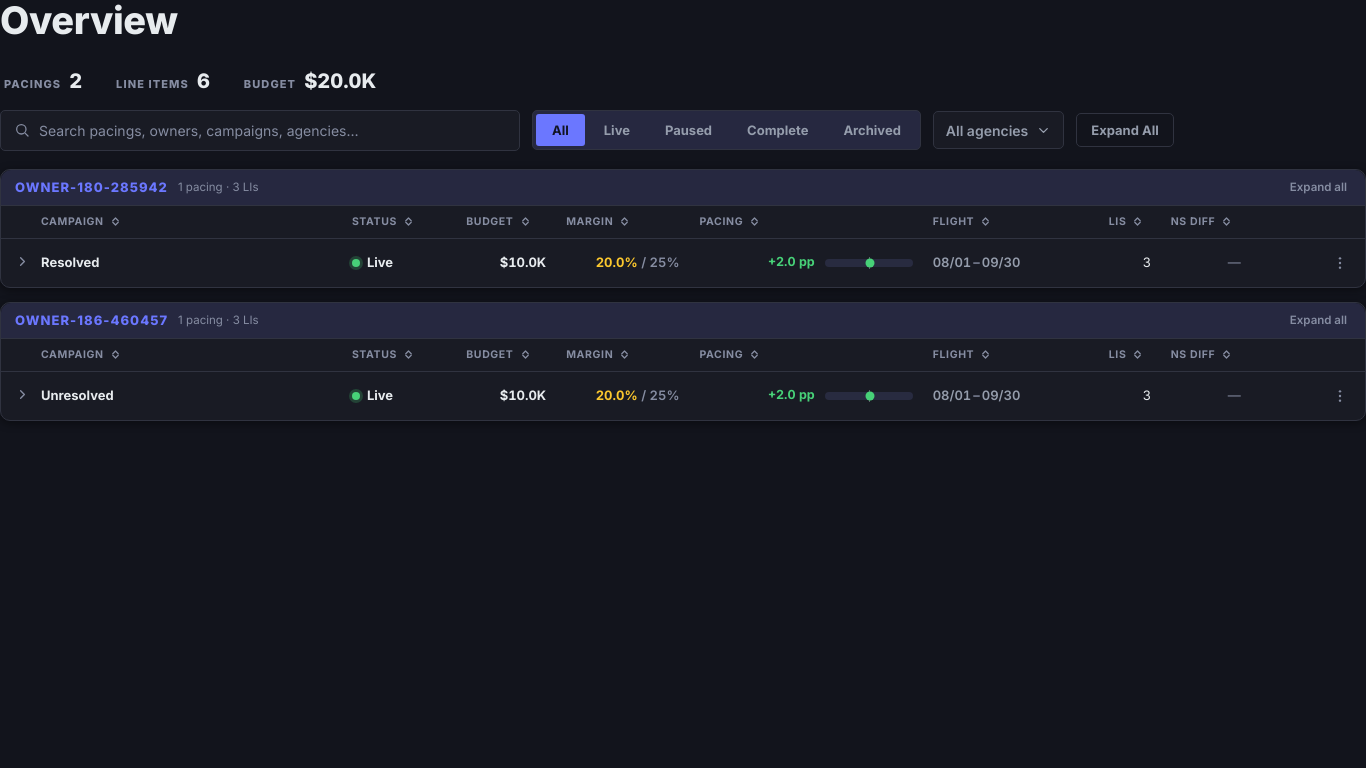
Test: Overview › should filter by agency through any of a pacing's campaigns, dropping unresolved pacings
expect the text "Resolved" is shown: met, box [41,253,100,272]
# selecting the agency in the MultiSelect
Click the button "All agencies": (999, 130) [933,111,1064,149]
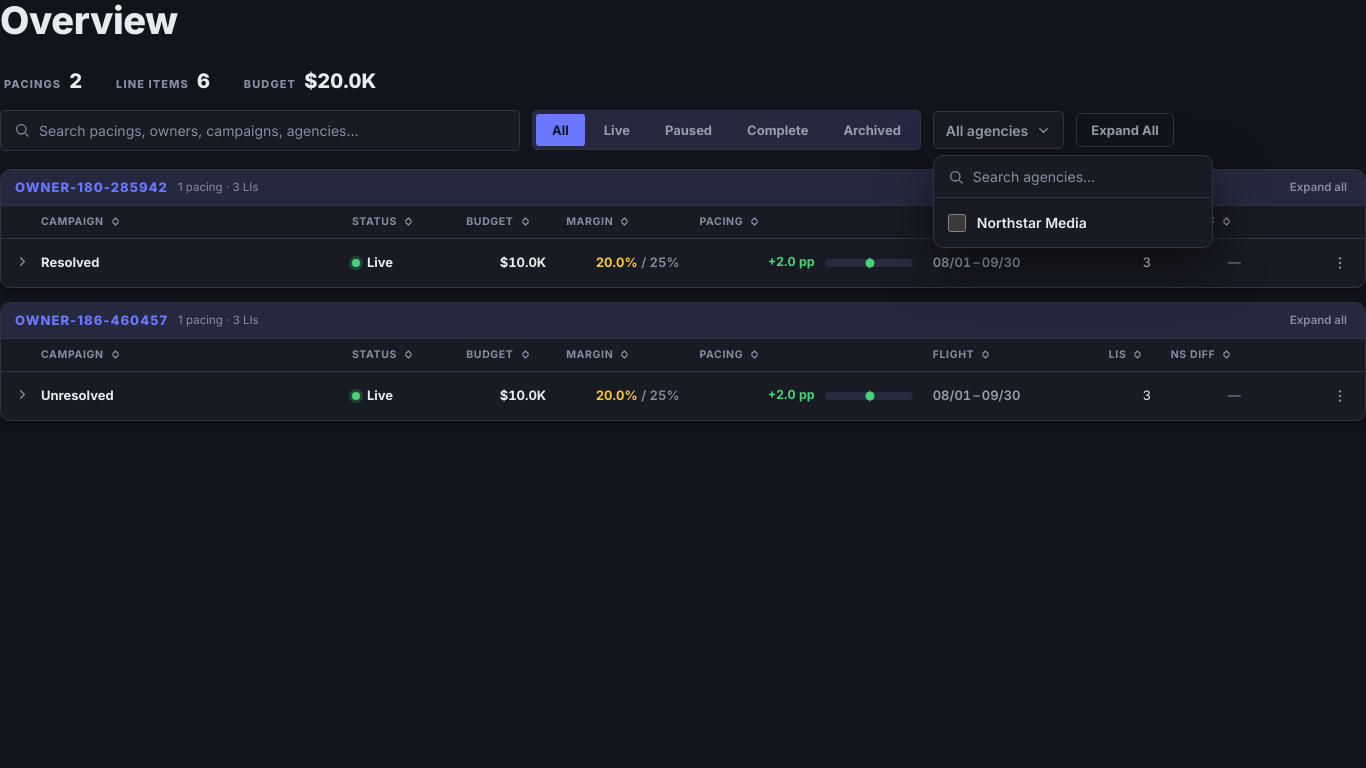
Click the text "Northstar Media": (1032, 223) [977,212,1087,233]
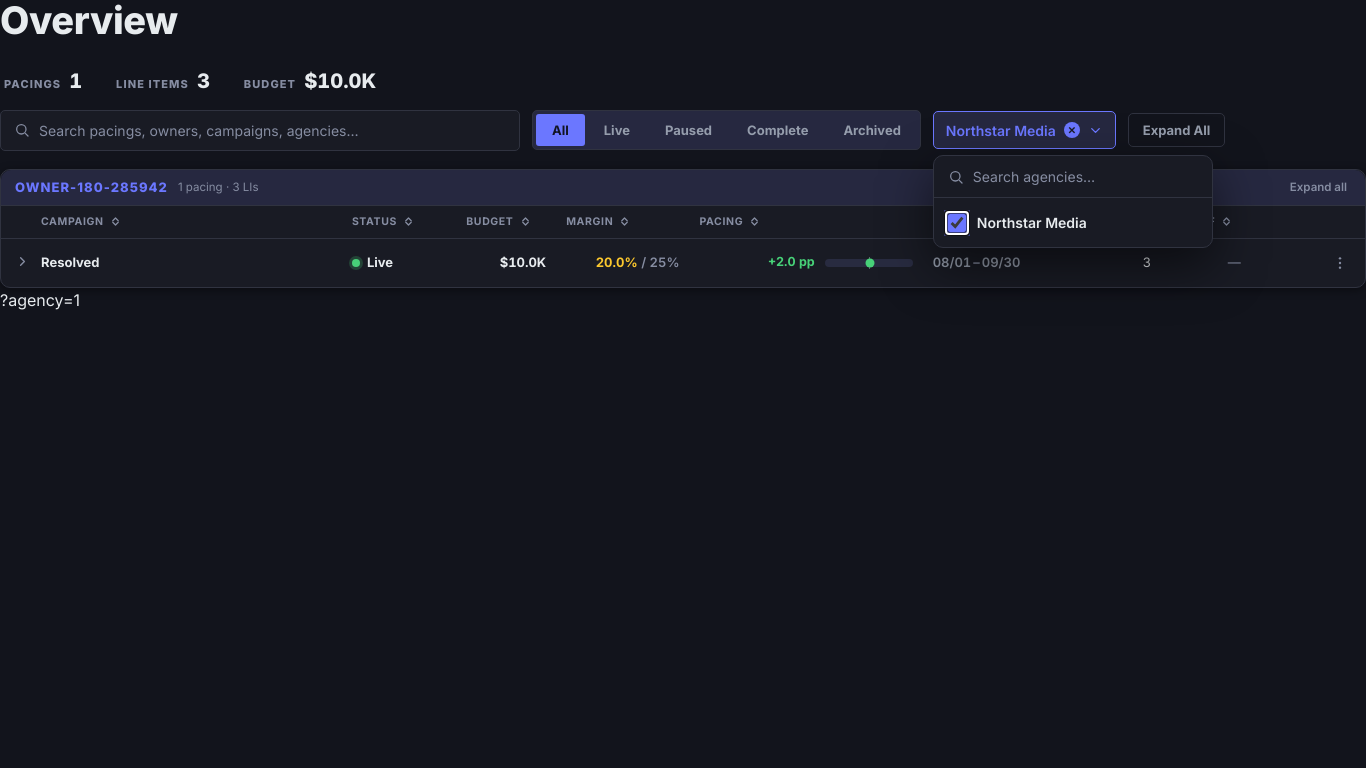
expect the text "Resolved" is shown: met, box [41,253,100,272]
expect the text "Unresolved" is gone: met
